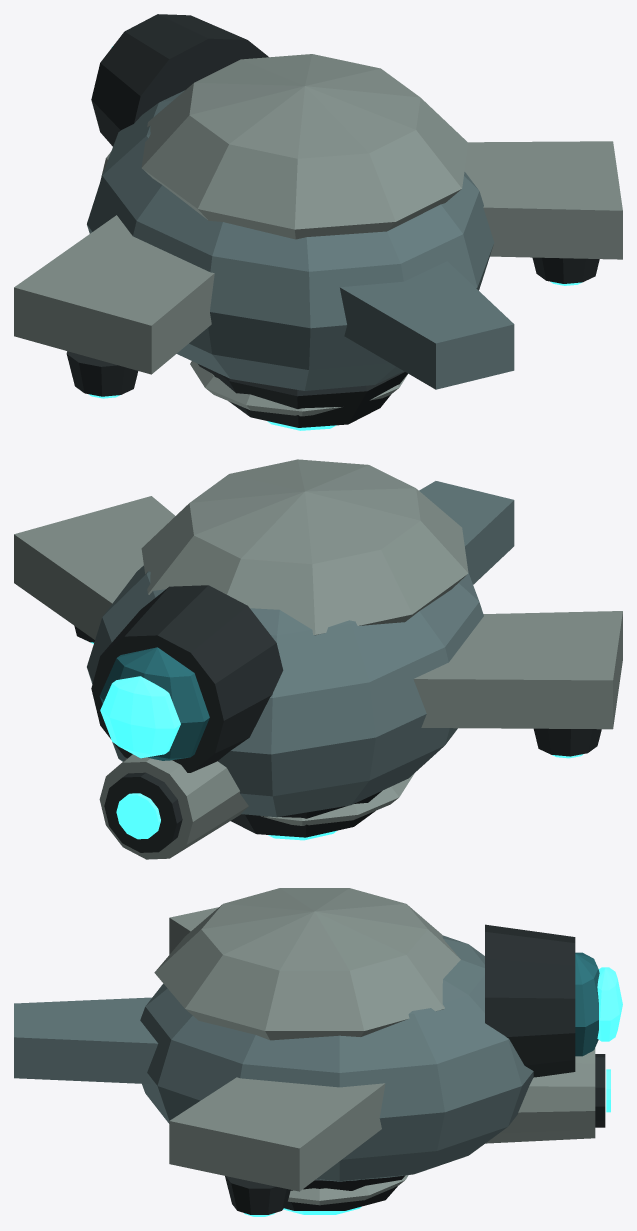
File: alien_probe_visual.glb
3 views of the same model, one above another, from view 1: azimuth 30°, elevation 25°; view 2: azimuth 150°, elevation 25°; view 3: azimuth 270°, elevation 25° (orthographic). The views are drawn at different scales.
Visible parts, largest first — view 1: UpperPanel, Hull, Stabilizer_L, Stabilizer_R, RearStabilizer, SensorHousing, LowerCoreHousing, Thruster_L, CoreRing, Thruster_R; view 2: UpperPanel, Hull, Stabilizer_L, SensorHousing, Stabilizer_R, EmitterHousing, RearStabilizer, SensorIris, SensorLens, EmitterSocket, LowerCoreHousing, CoreRing (+2 smaller); view 3: Hull, UpperPanel, Stabilizer_R, SensorHousing, RearStabilizer, EmitterHousing, SensorLens, Thruster_R, LowerCoreHousing, SensorIris, CoreRing, Stabilizer_L (+1 smaller).
Part boxes in pixels (left/top/right/bottom): UpperPanel: left=141, top=54, right=468, bottom=239; Hull: left=87, top=90, right=494, bottom=390; Stabilizer_L: left=14, top=215, right=214, bottom=374; Stabilizer_R: left=464, top=141, right=622, bottom=259; RearStabilizer: left=340, top=261, right=514, bottom=389; SensorHousing: left=91, top=14, right=268, bottom=146; LowerCoreHousing: left=198, top=364, right=407, bottom=427; Thruster_L: left=66, top=351, right=138, bottom=396; CoreRing: left=190, top=361, right=407, bottom=416; Thruster_R: left=532, top=257, right=599, bottom=283; UpperPanel: left=141, top=459, right=468, bottom=635; Hull: left=87, top=565, right=483, bottom=817; Stabilizer_L: left=413, top=611, right=622, bottom=729; SensorHousing: left=91, top=585, right=283, bottom=772; Stabilizer_R: left=14, top=496, right=175, bottom=639; EmitterHousing: left=99, top=754, right=248, bottom=859; RearStabilizer: left=419, top=481, right=514, bottom=584; SensorIris: left=100, top=676, right=180, bottom=758; SensorLens: left=99, top=647, right=209, bottom=760; EmitterSocket: left=104, top=772, right=182, bottom=852; LowerCoreHousing: left=231, top=790, right=382, bottom=837; CoreRing: left=261, top=774, right=413, bottom=825; Hull: left=140, top=935, right=533, bottom=1181; UpperPanel: left=154, top=888, right=460, bottom=1040; Stabilizer_R: left=169, top=1077, right=385, bottom=1191; SensorHousing: left=485, top=924, right=575, bottom=1077; RearStabilizer: left=14, top=997, right=158, bottom=1084; EmitterHousing: left=485, top=1048, right=595, bottom=1143; SensorLens: left=575, top=952, right=599, bottom=1056; Thruster_R: left=225, top=1176, right=290, bottom=1214; LowerCoreHousing: left=284, top=1175, right=405, bottom=1210; SensorIris: left=597, top=967, right=622, bottom=1041; CoreRing: left=288, top=1175, right=408, bottom=1205; Stabilizer_L: left=169, top=907, right=218, bottom=954.
Bounding box in the file's own units: 1.22 × 0.65 × 1.22.
